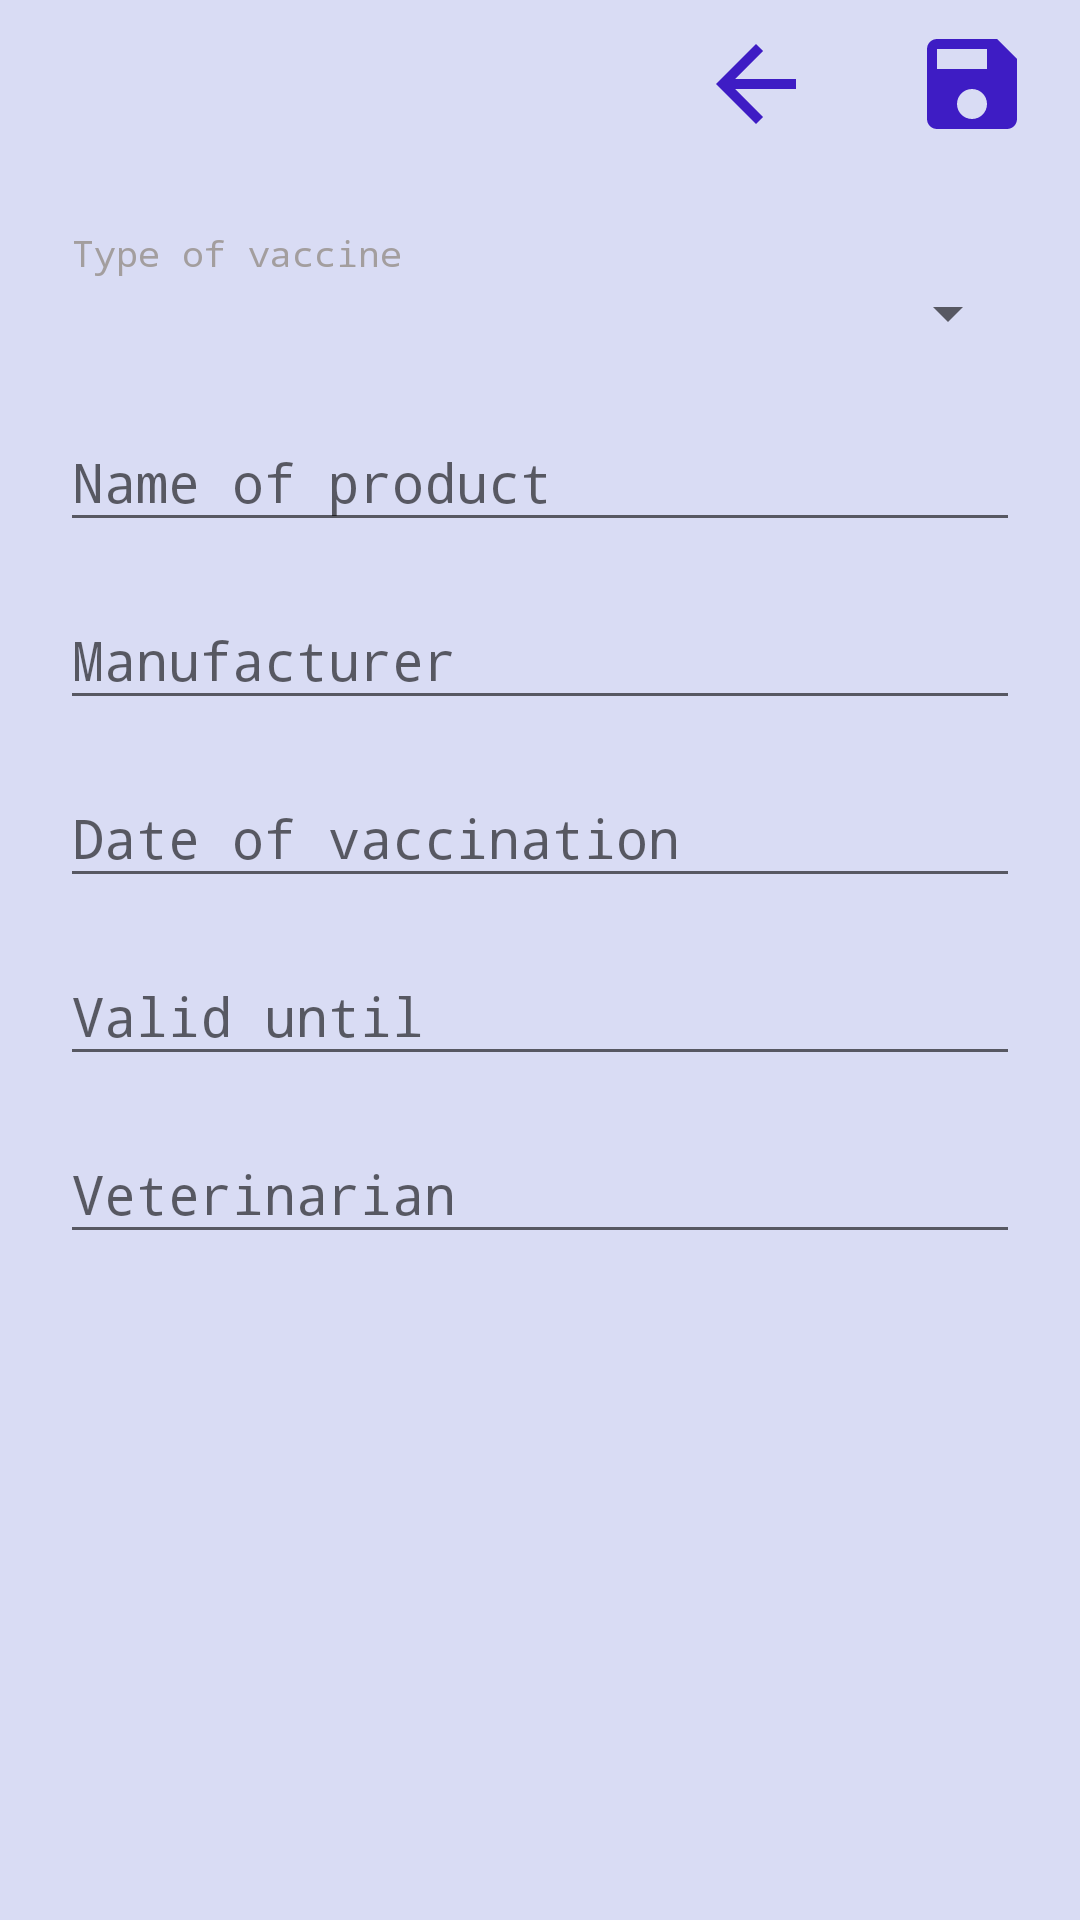

Where to tap for icons on this 1080px x 1920px app screen, as point (x, y):
back: point (756, 84)
save: point (972, 84)
